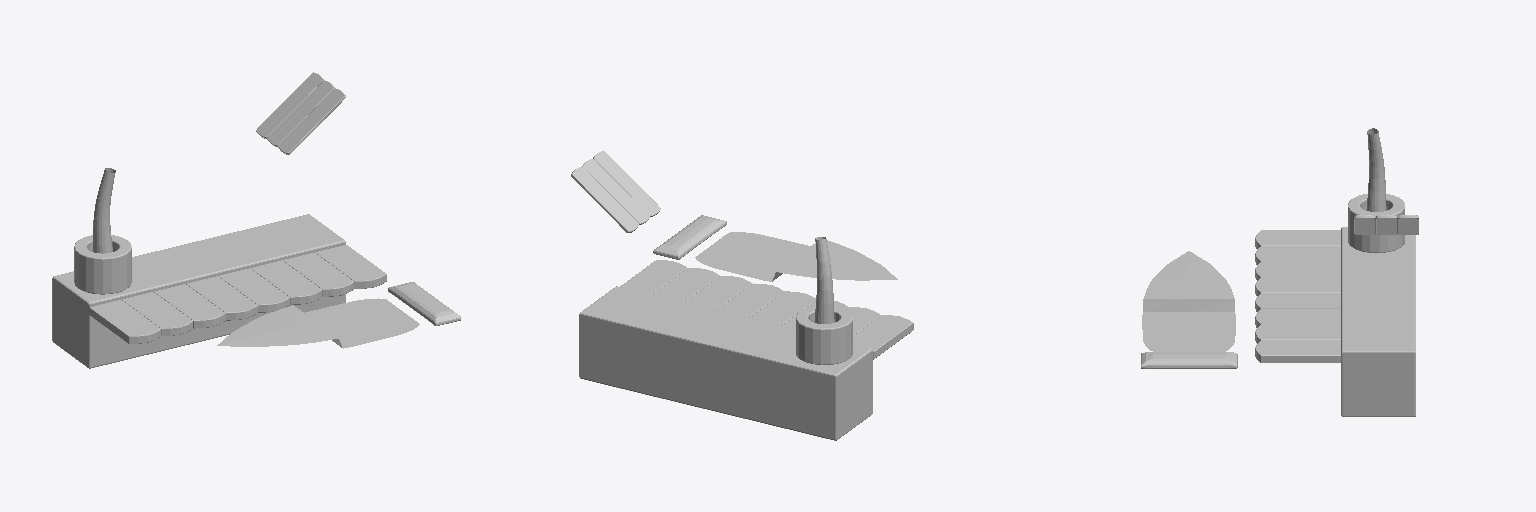
The model's file is textures wood rock ceramic pot.obj.
3 renders of one model, left to right at view 1: azimuth 30°, elevation 25°; view 2: azimuth 150°, elevation 25°; view 3: azimuth 270°, elevation 25°, orthographic.
Visible parts, largest first — view 1: detailed_models cement_block cemebt_blocc, detailed_models boat woof_fllowr, detailed_models tree treee_pot, deck_boards deck detailed_models deck_piece, deck_boards deck detailed_models deck_piece13, deck_boards deck detailed_models deck_piece9, deck_boards deck detailed_models deck_piece10, deck_boards deck detailed_models deck_piece12, deck_boards deck detailed_models deck_piece14, deck_boards deck detailed_models deck_piece8, deck_piece11 deck_boards deck detailed_models, detailed_models back_thing_top1 storage_thing_on_back boat (+4 smaller); view 2: detailed_models cement_block cemebt_blocc, detailed_models boat woof_fllowr, detailed_models tree treee_pot, deck_boards deck detailed_models deck_piece, detailed_models back_thing_top1 storage_thing_on_back boat, detailed_models tree_trunk tree, detailed_models hut roof3, deck_boards deck detailed_models deck_piece13, deck_boards deck detailed_models deck_piece14, deck_piece11 deck_boards deck detailed_models, deck_boards deck detailed_models deck_piece12, deck_boards deck detailed_models deck_piece10 (+2 smaller); view 3: detailed_models cement_block cemebt_blocc, detailed_models boat woof_fllowr, deck_boards deck detailed_models deck_piece14, detailed_models tree treee_pot, detailed_models back_thing_top1 storage_thing_on_back boat, deck_boards deck detailed_models deck_piece13, deck_boards deck detailed_models deck_piece10, deck_boards deck detailed_models deck_piece9, deck_boards deck detailed_models deck_piece, deck_piece11 deck_boards deck detailed_models, detailed_models tree_trunk tree, deck_boards deck detailed_models deck_piece12 (+1 smaller).
Part boxes in pixels (x1,y1,x2,y2): detailed_models cement_block cemebt_blocc: (52,214,345,368); detailed_models boat woof_fllowr: (217,298,419,348); detailed_models tree treee_pot: (74,235,131,294); deck_boards deck detailed_models deck_piece: (89,300,160,343); deck_boards deck detailed_models deck_piece13: (283,253,354,296); deck_boards deck detailed_models deck_piece9: (154,284,225,328); deck_boards deck detailed_models deck_piece10: (186,276,257,320); deck_boards deck detailed_models deck_piece12: (251,260,321,304); deck_boards deck detailed_models deck_piece14: (315,245,386,288); deck_boards deck detailed_models deck_piece8: (122,292,192,335); deck_piece11 deck_boards deck detailed_models: (219,268,289,312); detailed_models back_thing_top1 storage_thing_on_back boat: (388,282,460,325); detailed_models cement_block cemebt_blocc: (579,286,872,440); detailed_models boat woof_fllowr: (695,232,897,281); detailed_models tree treee_pot: (796,306,852,364); deck_boards deck detailed_models deck_piece: (853,315,913,359); detailed_models back_thing_top1 storage_thing_on_back boat: (653,215,726,259); detailed_models tree_trunk tree: (814,237,834,323); detailed_models hut roof3: (571,167,638,232); deck_boards deck detailed_models deck_piece13: (652,268,719,302); deck_boards deck detailed_models deck_piece14: (620,260,687,294); deck_piece11 deck_boards deck detailed_models: (716,283,784,317); deck_boards deck detailed_models deck_piece12: (684,276,751,309); deck_boards deck detailed_models deck_piece10: (749,291,815,325); detailed_models cement_block cemebt_blocc: (1341,227,1415,416); detailed_models boat woof_fllowr: (1142,251,1235,351); deck_boards deck detailed_models deck_piece14: (1255,340,1340,362); detailed_models tree treee_pot: (1348,194,1404,252); detailed_models back_thing_top1 storage_thing_on_back boat: (1141,352,1237,368); deck_boards deck detailed_models deck_piece13: (1255,324,1340,343); deck_boards deck detailed_models deck_piece10: (1255,277,1340,295); deck_boards deck detailed_models deck_piece9: (1255,261,1340,280); deck_boards deck detailed_models deck_piece: (1255,230,1340,248); deck_piece11 deck_boards deck detailed_models: (1255,293,1340,311); detailed_models tree_trunk tree: (1367,128,1386,211); deck_boards deck detailed_models deck_piece12: (1255,309,1340,327).
Bounding box in the file's own units: 8.47 × 6.11 × 7.5.